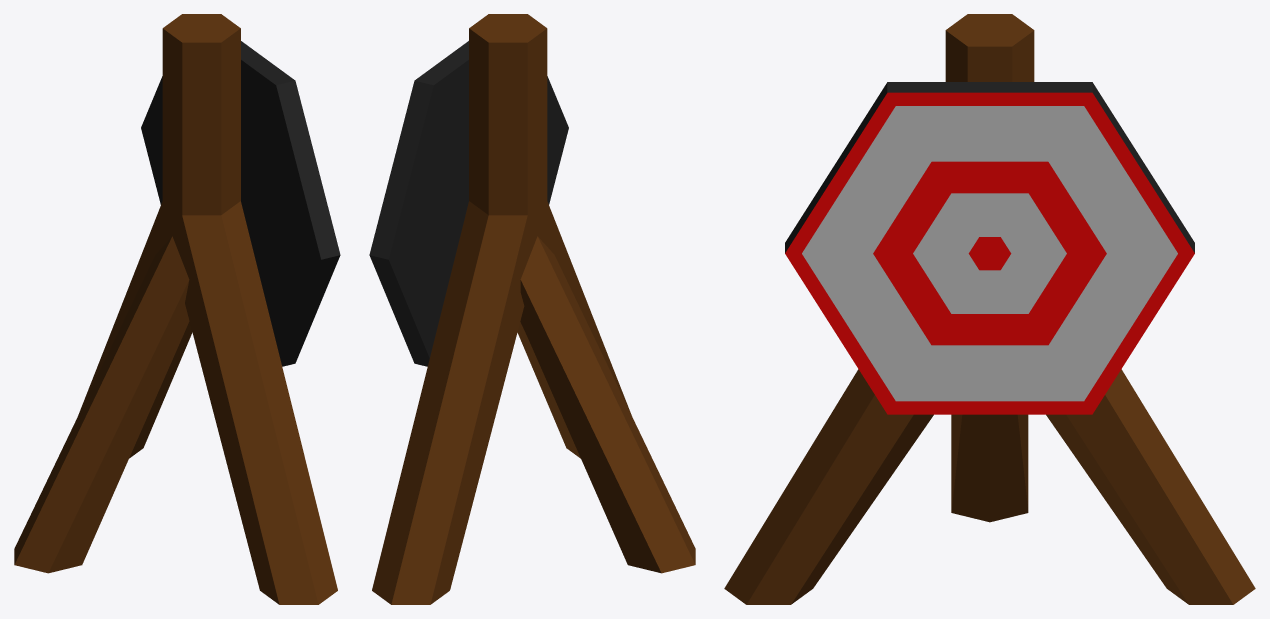
File: hedeftahta.fbx
3 renders of one model, left to right at view 1: azimuth 30°, elevation 25°; view 2: azimuth 150°, elevation 25°; view 3: azimuth 270°, elevation 25°, orthographic. The views are drawn at different scales.
Visible parts, largest first — view 1: Circle.001; view 2: Circle.001; view 3: Circle.001.
Boxes of the visible parts, box(x1,y1,x2,y2) form: Circle.001: box(14, 14, 340, 604); Circle.001: box(369, 14, 695, 604); Circle.001: box(724, 14, 1255, 604).
Size of the model in its own units: 111 by 220 by 190.
Materials: 1 (1 with a texture image).
